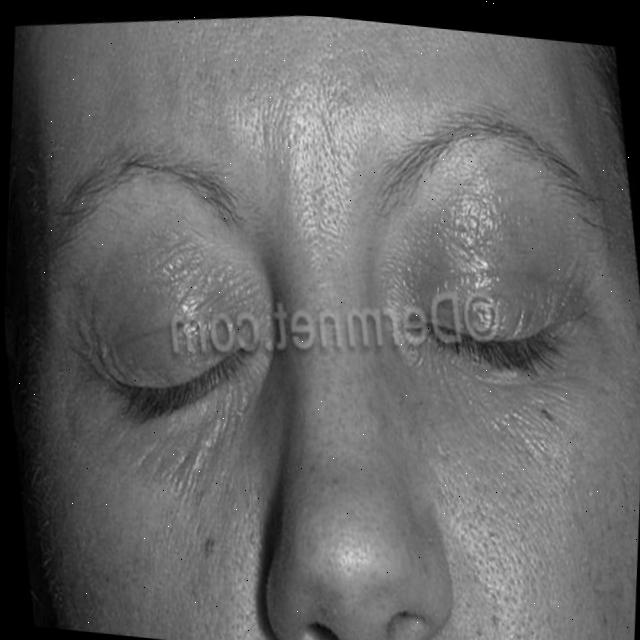Eczema: (123, 134, 586, 437)
